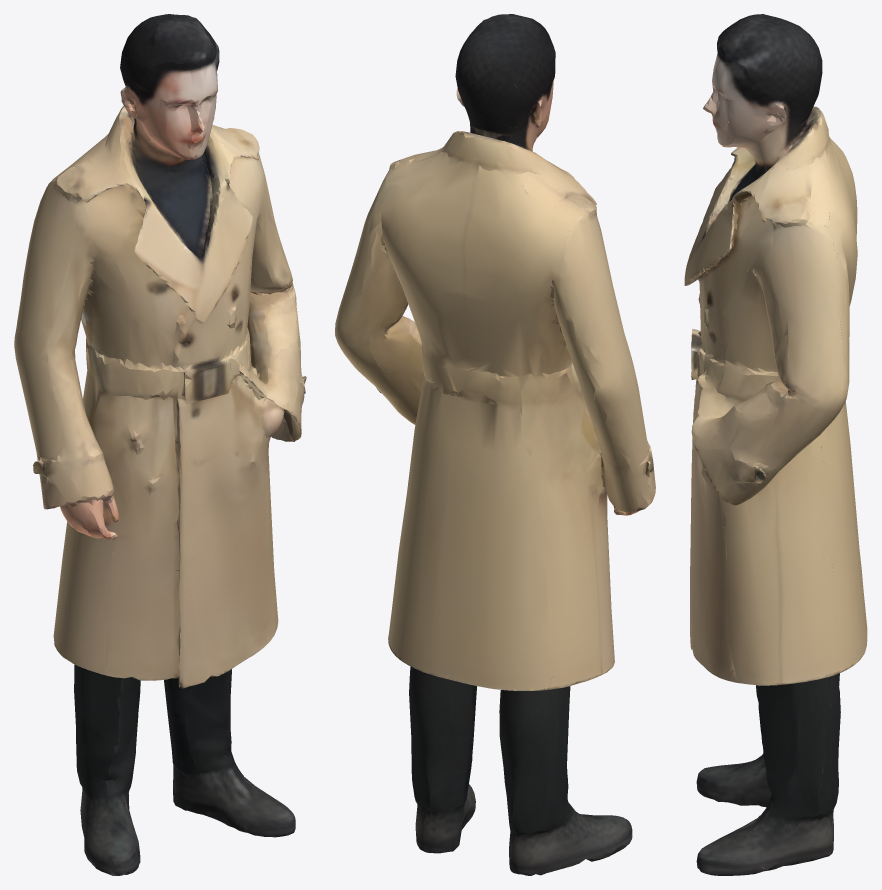
Rendered from autumn.glb.
The picture shows the model from 3 angles, left to right: view 1: azimuth 30°, elevation 25°; view 2: azimuth 150°, elevation 25°; view 3: azimuth 270°, elevation 25°; orthographic projection.
Parts seen in each view (by area): view 1: Asian_Autumn_Custom; view 2: Asian_Autumn_Custom; view 3: Asian_Autumn_Custom.
Boxes of the visible parts, x1,y1,x2,y2 form: Asian_Autumn_Custom: [14, 14, 306, 875]; Asian_Autumn_Custom: [335, 14, 655, 875]; Asian_Autumn_Custom: [684, 14, 867, 875].
Size of the model in its own units: 0.6251 by 1.73 by 0.3548.
Materials: 1 (1 with a texture image).
